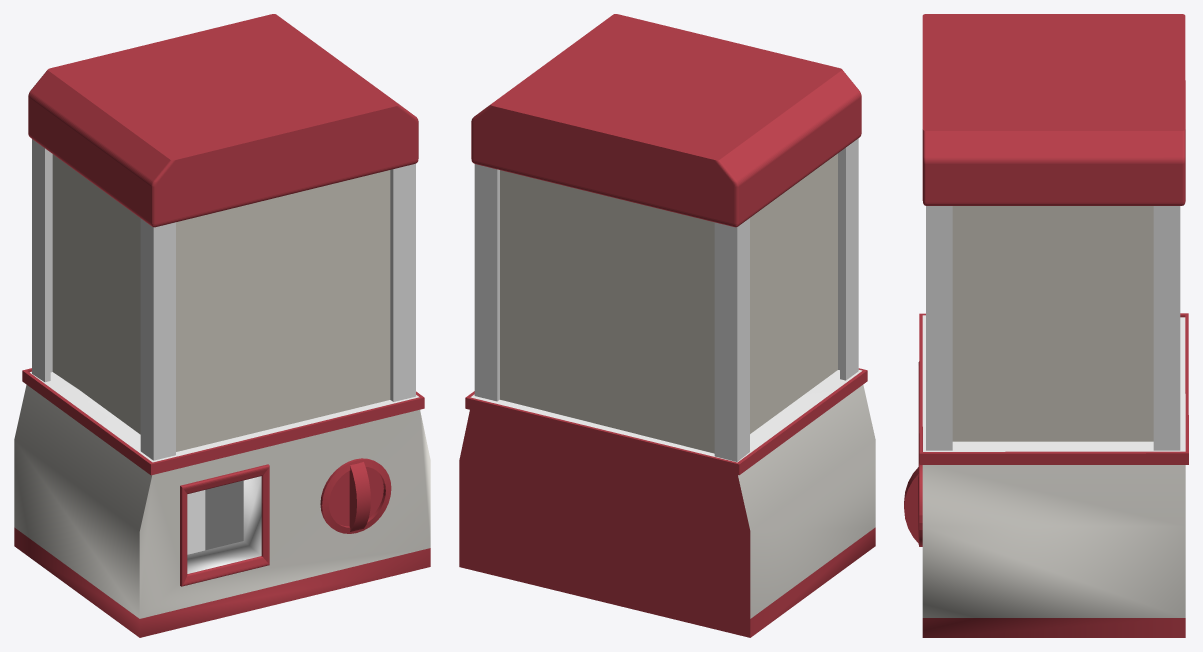
File: gatcha_trim.fbx
3 renders of one model, left to right at view 1: azimuth 30°, elevation 25°; view 2: azimuth 150°, elevation 25°; view 3: azimuth 270°, elevation 25°, orthographic. The views are drawn at different scales.
Parts seen in each view (by area): view 1: 立方体.012, 立方体.079, 立方体.080, 立方体.091, 立方体.088, 立方体.087, 立方体.090, lever, 立方体.081; view 2: 立方体.079, 立方体.012, 立方体.080, 立方体.090, 立方体.089, 立方体.088, 立方体.091; view 3: 立方体.080, 立方体.079, 立方体.012, 立方体.089, 立方体.087, 立方体.091, lever.
Boxes of the visible parts, left/top/right/bottom form: 立方体.012: left=52, top=154, right=390, bottom=451; 立方体.079: left=14, top=368, right=430, bottom=637; 立方体.080: left=28, top=14, right=418, bottom=227; 立方体.091: left=30, top=371, right=419, bottom=573; 立方体.088: left=140, top=218, right=175, bottom=460; 立方体.087: left=390, top=163, right=415, bottom=401; 立方体.090: left=32, top=139, right=52, bottom=382; lever: left=320, top=458, right=391, bottom=533; 立方体.081: left=180, top=464, right=269, bottom=586; 立方体.079: left=459, top=368, right=875, bottom=637; 立方体.012: left=500, top=153, right=837, bottom=453; 立方体.080: left=471, top=14, right=861, bottom=227; 立方体.090: left=714, top=218, right=749, bottom=461; 立方体.089: left=474, top=164, right=499, bottom=401; 立方体.088: left=838, top=138, right=858, bottom=380; 立方体.091: left=470, top=370, right=862, bottom=462; 立方体.080: left=922, top=14, right=1185, bottom=205; 立方体.079: left=919, top=313, right=1188, bottom=637; 立方体.012: left=952, top=206, right=1153, bottom=441; 立方体.089: left=1153, top=206, right=1180, bottom=450; 立方体.087: left=926, top=206, right=952, bottom=450; 立方体.091: left=922, top=315, right=1185, bottom=451; lever: left=904, top=463, right=922, bottom=546.
Bounding box in the file's own units: 150 × 232 × 122.
